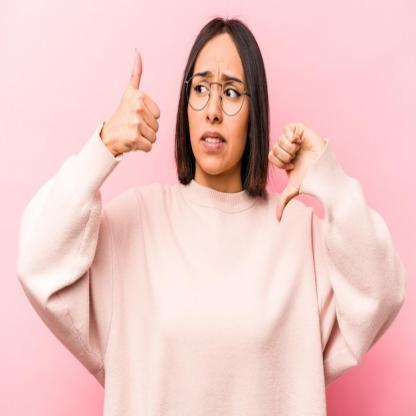thumb_down: (266, 117, 321, 226)
thumb_up: (112, 44, 162, 162)
